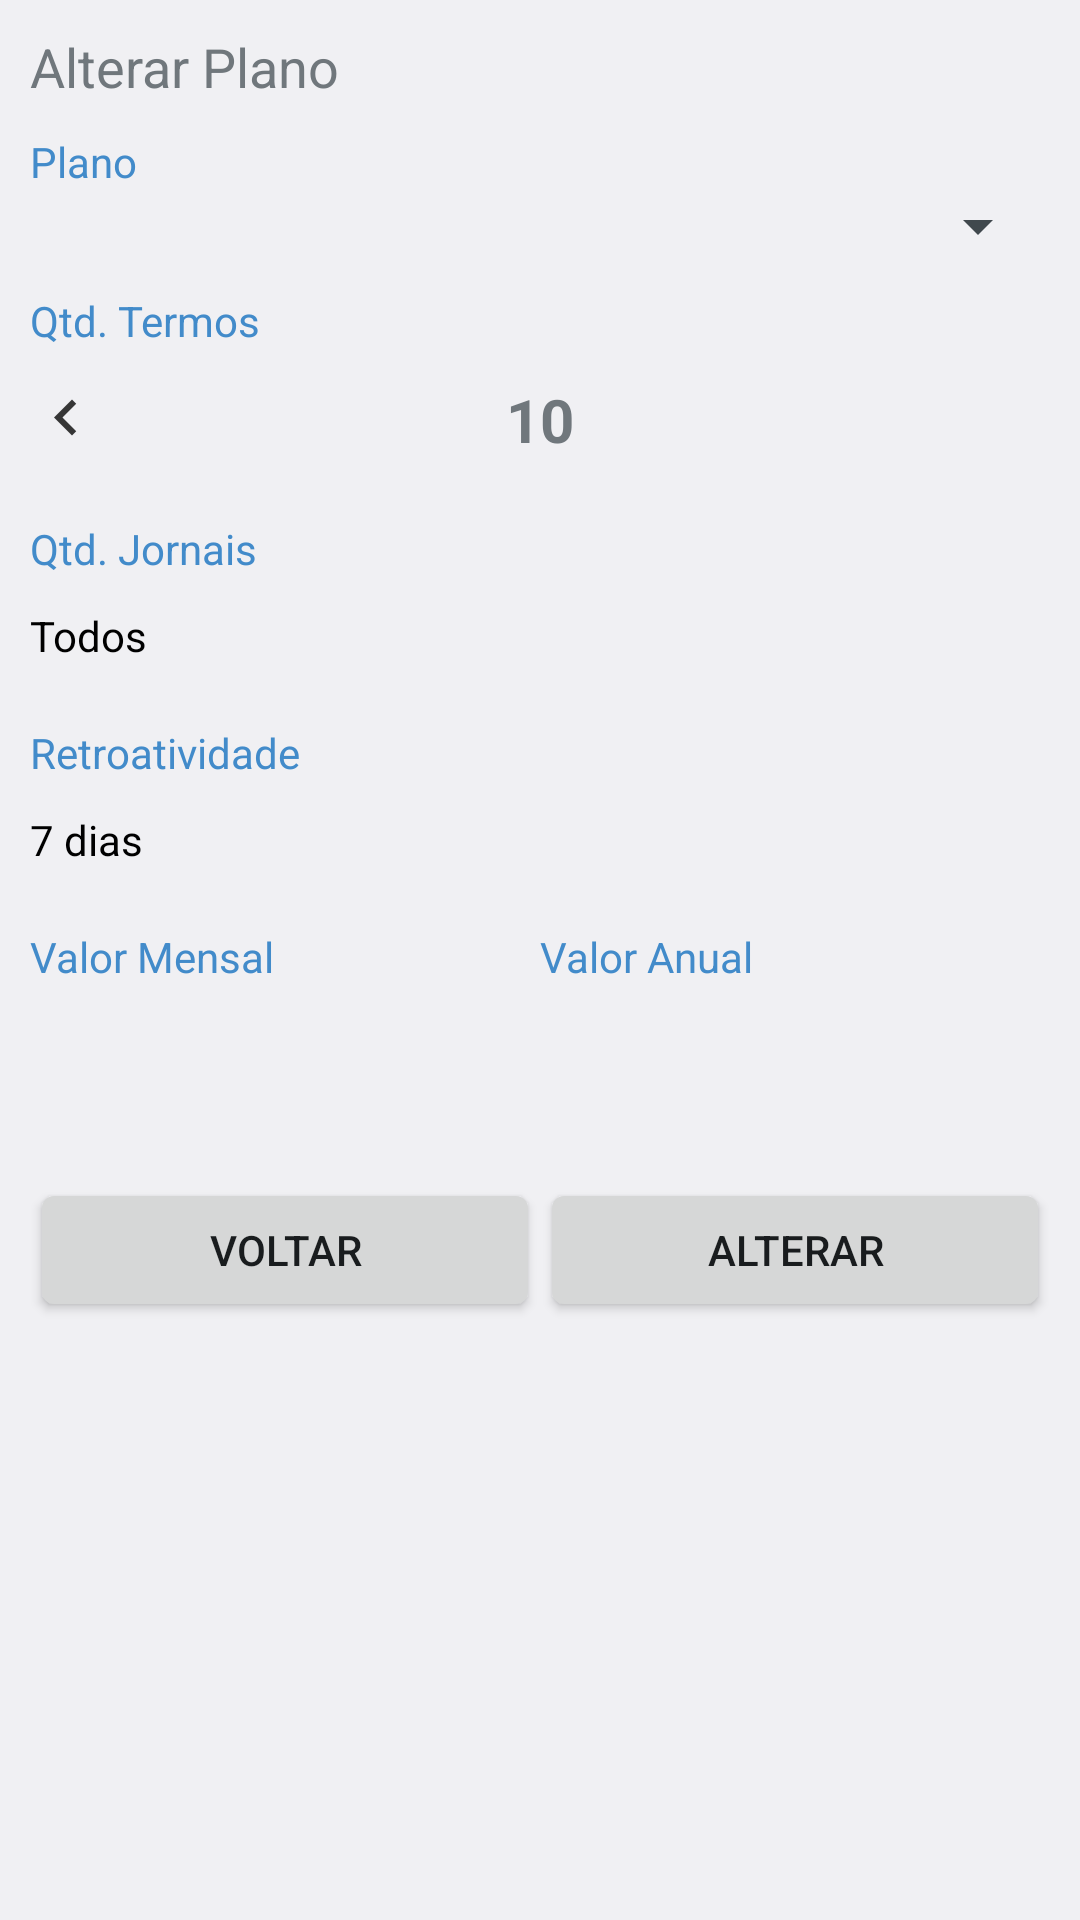

Icon click points for this 1080x1920 phone screenshot, format point (x, y):
arrow left: point (65, 418)
